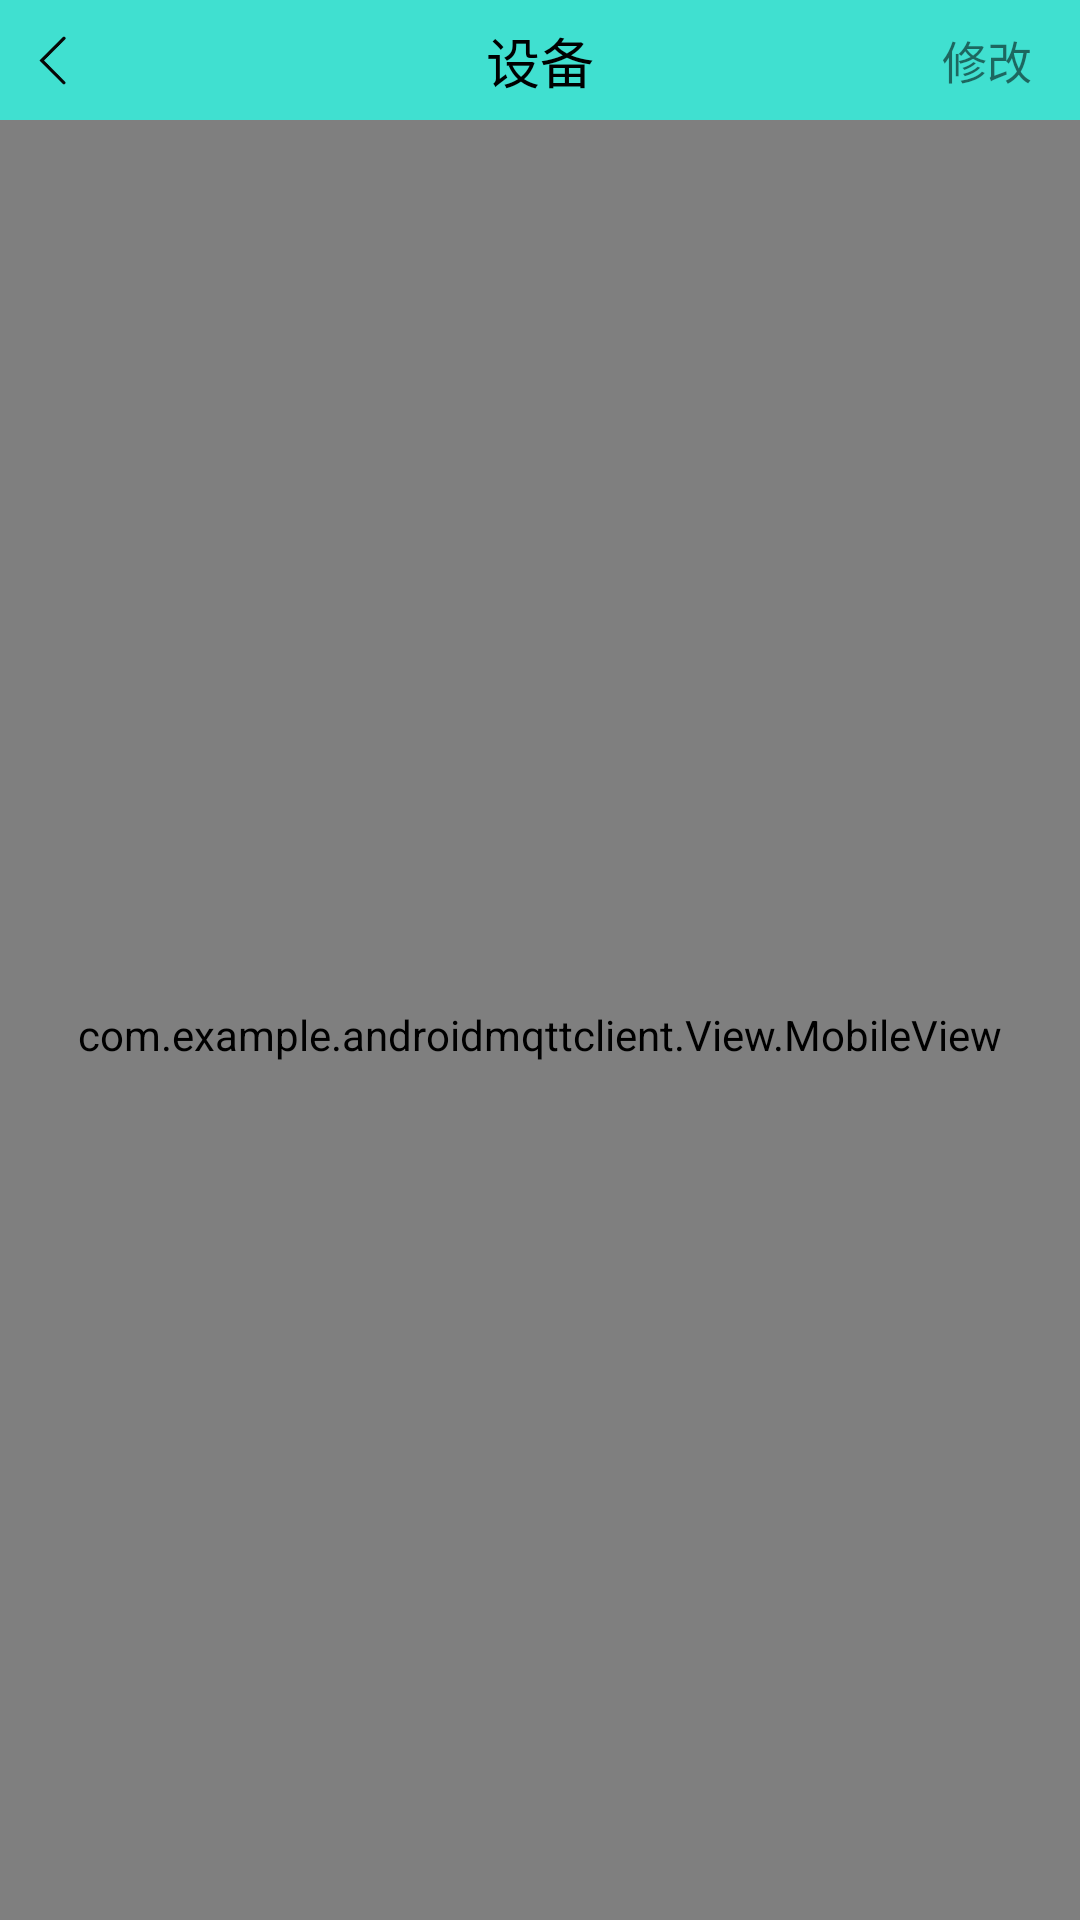

Icon click points for this 1080px x 1920px phone screenshot, format point (x, y):
return: point (52, 60)
